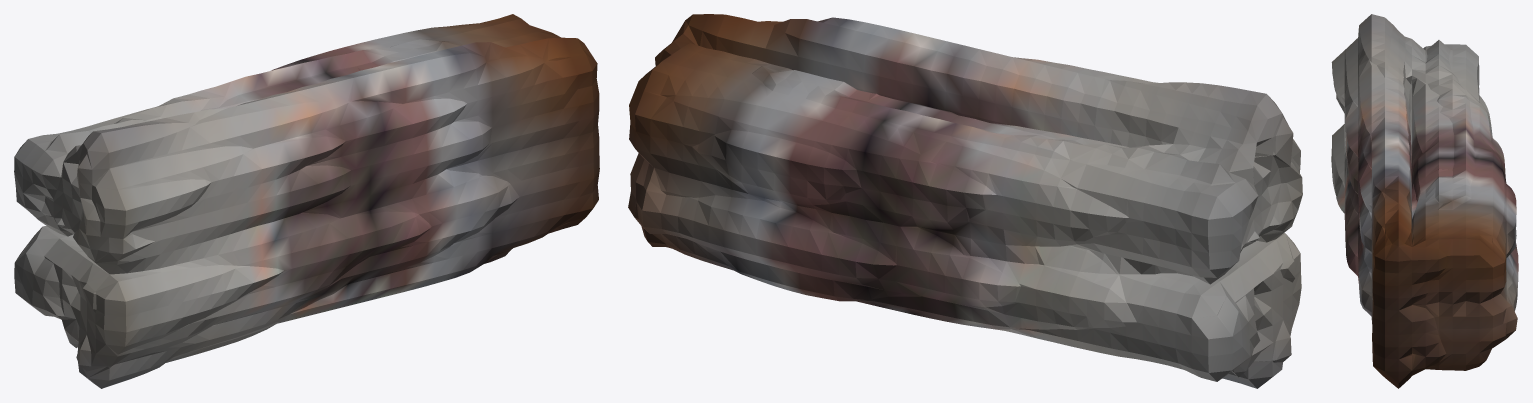
Rendered from producto-025.glb.
3 views of the same model, side by side, from view 1: azimuth 30°, elevation 25°; view 2: azimuth 150°, elevation 25°; view 3: azimuth 270°, elevation 25° (orthographic). The views are drawn at different scales.
Visible parts, largest first — view 1: world; view 2: world; view 3: world.
Boxes of the visible parts, x1,y1,x2,y2 form: world: (14, 14, 599, 388); world: (628, 14, 1302, 388); world: (1331, 14, 1518, 388).
Bounding box in the file's own units: 1.02 × 0.4659 × 0.3831.
